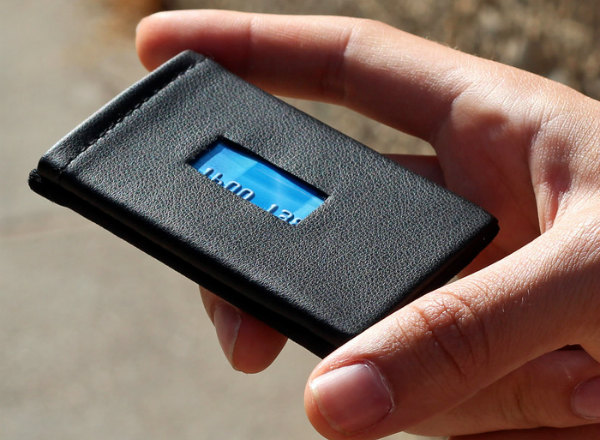monedero: (26, 48, 505, 363)
